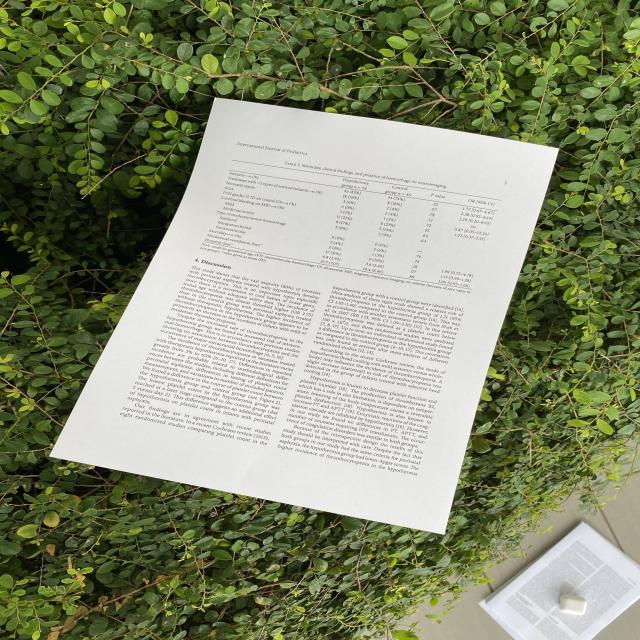kertas: (51, 35, 559, 570)
